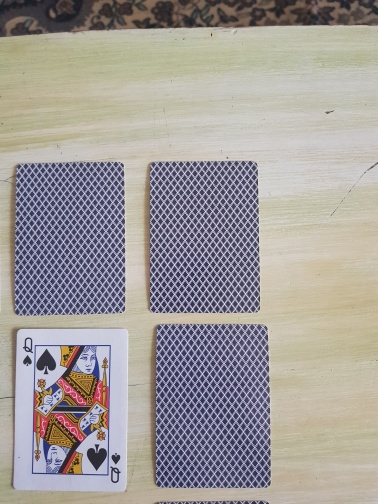queen: (10, 328, 131, 494)
